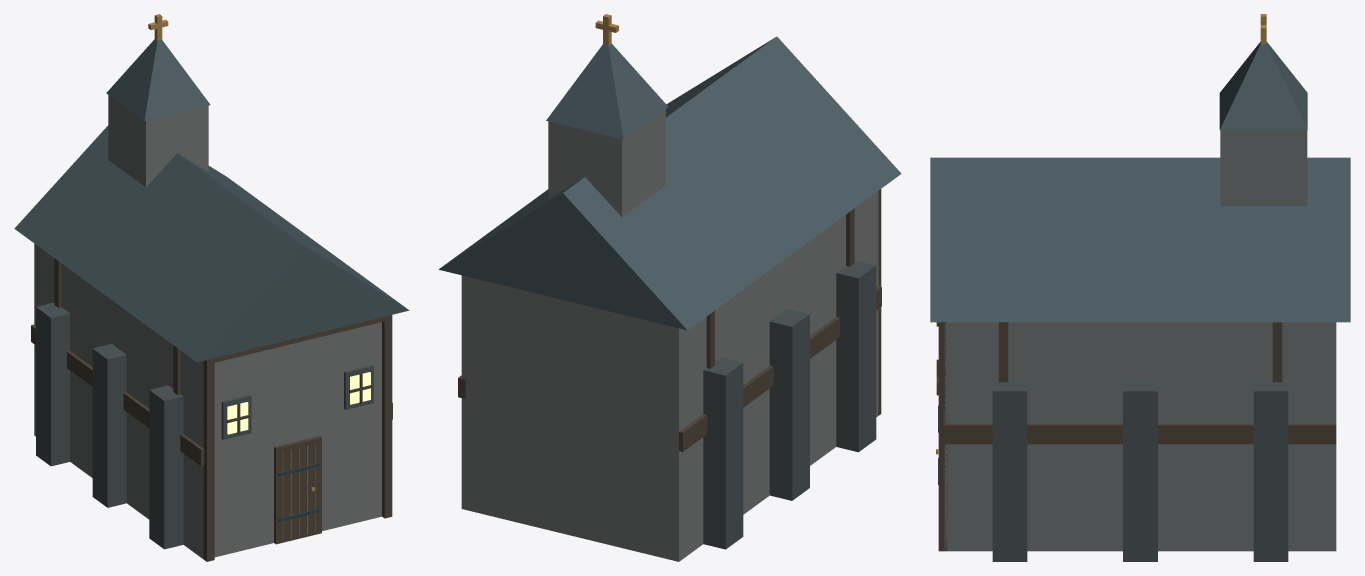
Rendered from BLD_Abbey_00_Dawn.glb.
The picture shows the model from 3 angles, left to right: view 1: azimuth 30°, elevation 25°; view 2: azimuth 150°, elevation 25°; view 3: azimuth 270°, elevation 25°; orthographic projection. The views are drawn at different scales.
Visible parts, largest first — view 1: BLD_Abbey_00_Dawn; view 2: BLD_Abbey_00_Dawn; view 3: BLD_Abbey_00_Dawn.
Part boxes in pixels (box(x1,y1,x2,y2)): BLD_Abbey_00_Dawn: box(14, 14, 409, 561); BLD_Abbey_00_Dawn: box(439, 14, 901, 561); BLD_Abbey_00_Dawn: box(930, 14, 1350, 561).
Size of the model in its own units: 4.1 by 7.36 by 5.8.
